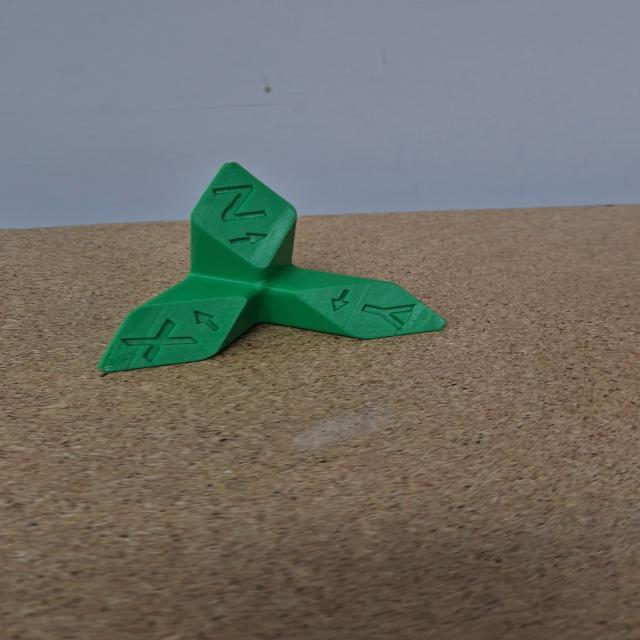eje: (89, 156, 456, 377)
